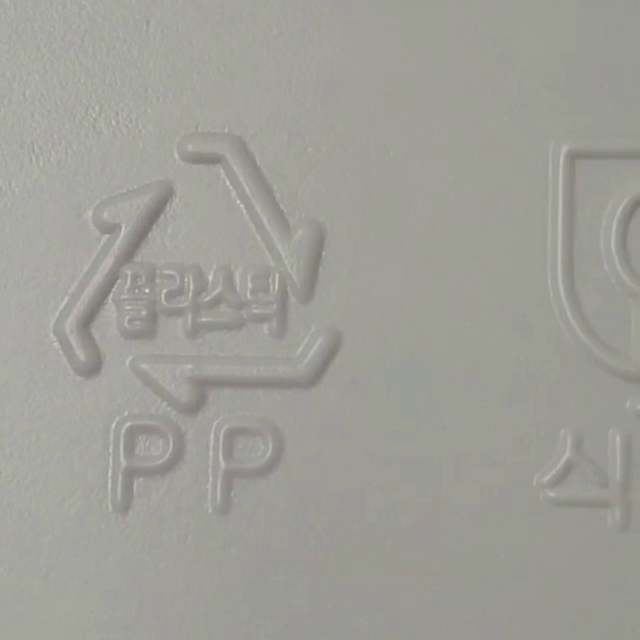Plastic: (50, 131, 340, 415)
